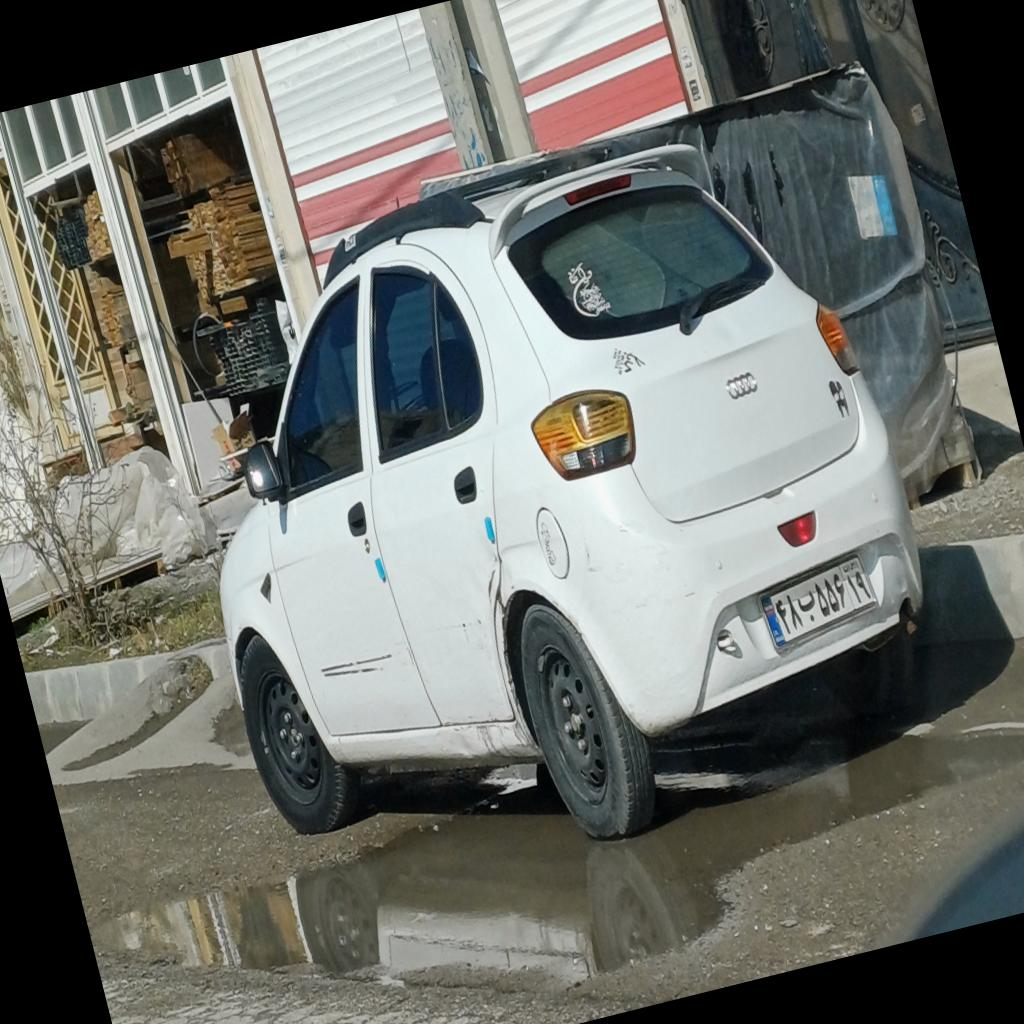Plates: (756, 552, 882, 656)
